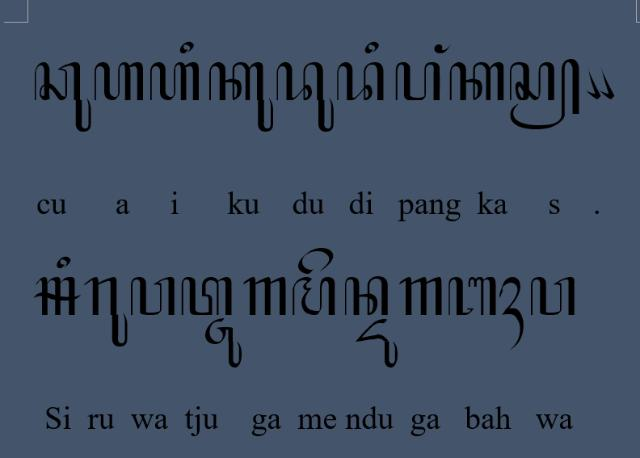-s: (508, 58, 580, 130)
S: (32, 277, 82, 317)
_du: (356, 318, 398, 370)
_h1: (498, 276, 526, 350)
_ju: (205, 318, 243, 370)
b: (448, 276, 498, 316)
cu: (34, 62, 92, 132)
d: (336, 60, 386, 102)
du: (275, 61, 335, 133)
e: (298, 246, 334, 274)
g: (243, 276, 287, 316), (400, 277, 444, 317)
h: (92, 61, 144, 103), (148, 62, 200, 102)
i: (364, 41, 380, 55), (55, 256, 71, 270), (180, 40, 194, 55)
k: (449, 60, 505, 102)
kom: (584, 68, 602, 100), (600, 66, 614, 102)
ku: (208, 61, 274, 133)
m: (292, 276, 336, 316)
n: (344, 277, 390, 317)
ng: (434, 43, 451, 55)
p: (395, 62, 441, 102)
ru: (84, 276, 128, 349)
t: (180, 275, 234, 317)
w: (529, 275, 577, 317), (130, 275, 177, 317)
